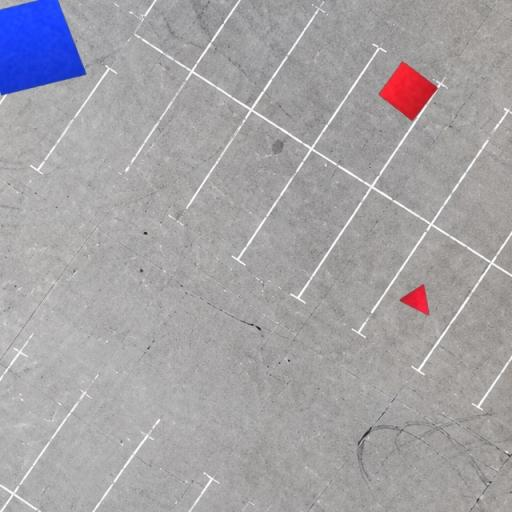BLUE_SQUARE: (0, 0, 87, 96)
RED_SQUARE: (378, 61, 438, 122)
